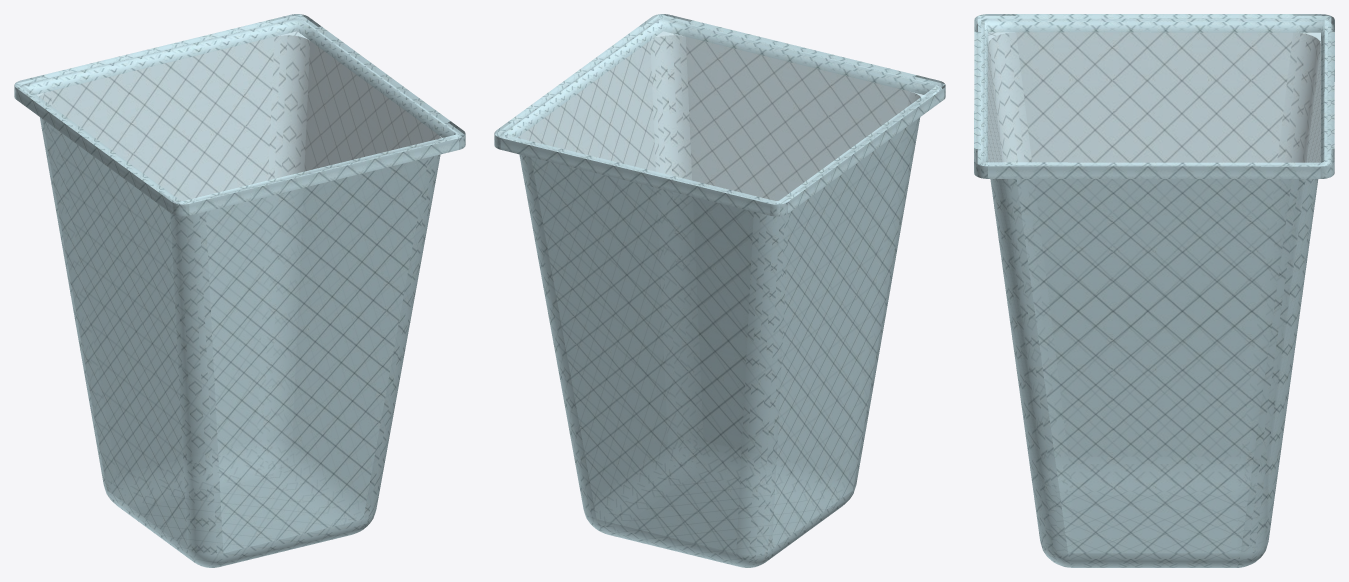
File: original-21.obj
The picture shows the model from 3 angles, left to right: view 1: azimuth 30°, elevation 25°; view 2: azimuth 150°, elevation 25°; view 3: azimuth 270°, elevation 25°; orthographic projection. The views are drawn at different scales.
Visible parts, largest first — view 1: Group8/mesh18/mesh18-geometry#mesh18-geometry; view 2: Group8/mesh18/mesh18-geometry#mesh18-geometry; view 3: Group8/mesh18/mesh18-geometry#mesh18-geometry.
Boxes of the visible parts, x1,y1,x2,y2 form: Group8/mesh18/mesh18-geometry#mesh18-geometry: [14, 14, 465, 567]; Group8/mesh18/mesh18-geometry#mesh18-geometry: [494, 14, 945, 567]; Group8/mesh18/mesh18-geometry#mesh18-geometry: [974, 14, 1334, 567].
Bounding box in the file's own units: 0.6113 × 0.8221 × 0.6113.
Materials: 1 (1 with a texture image).
